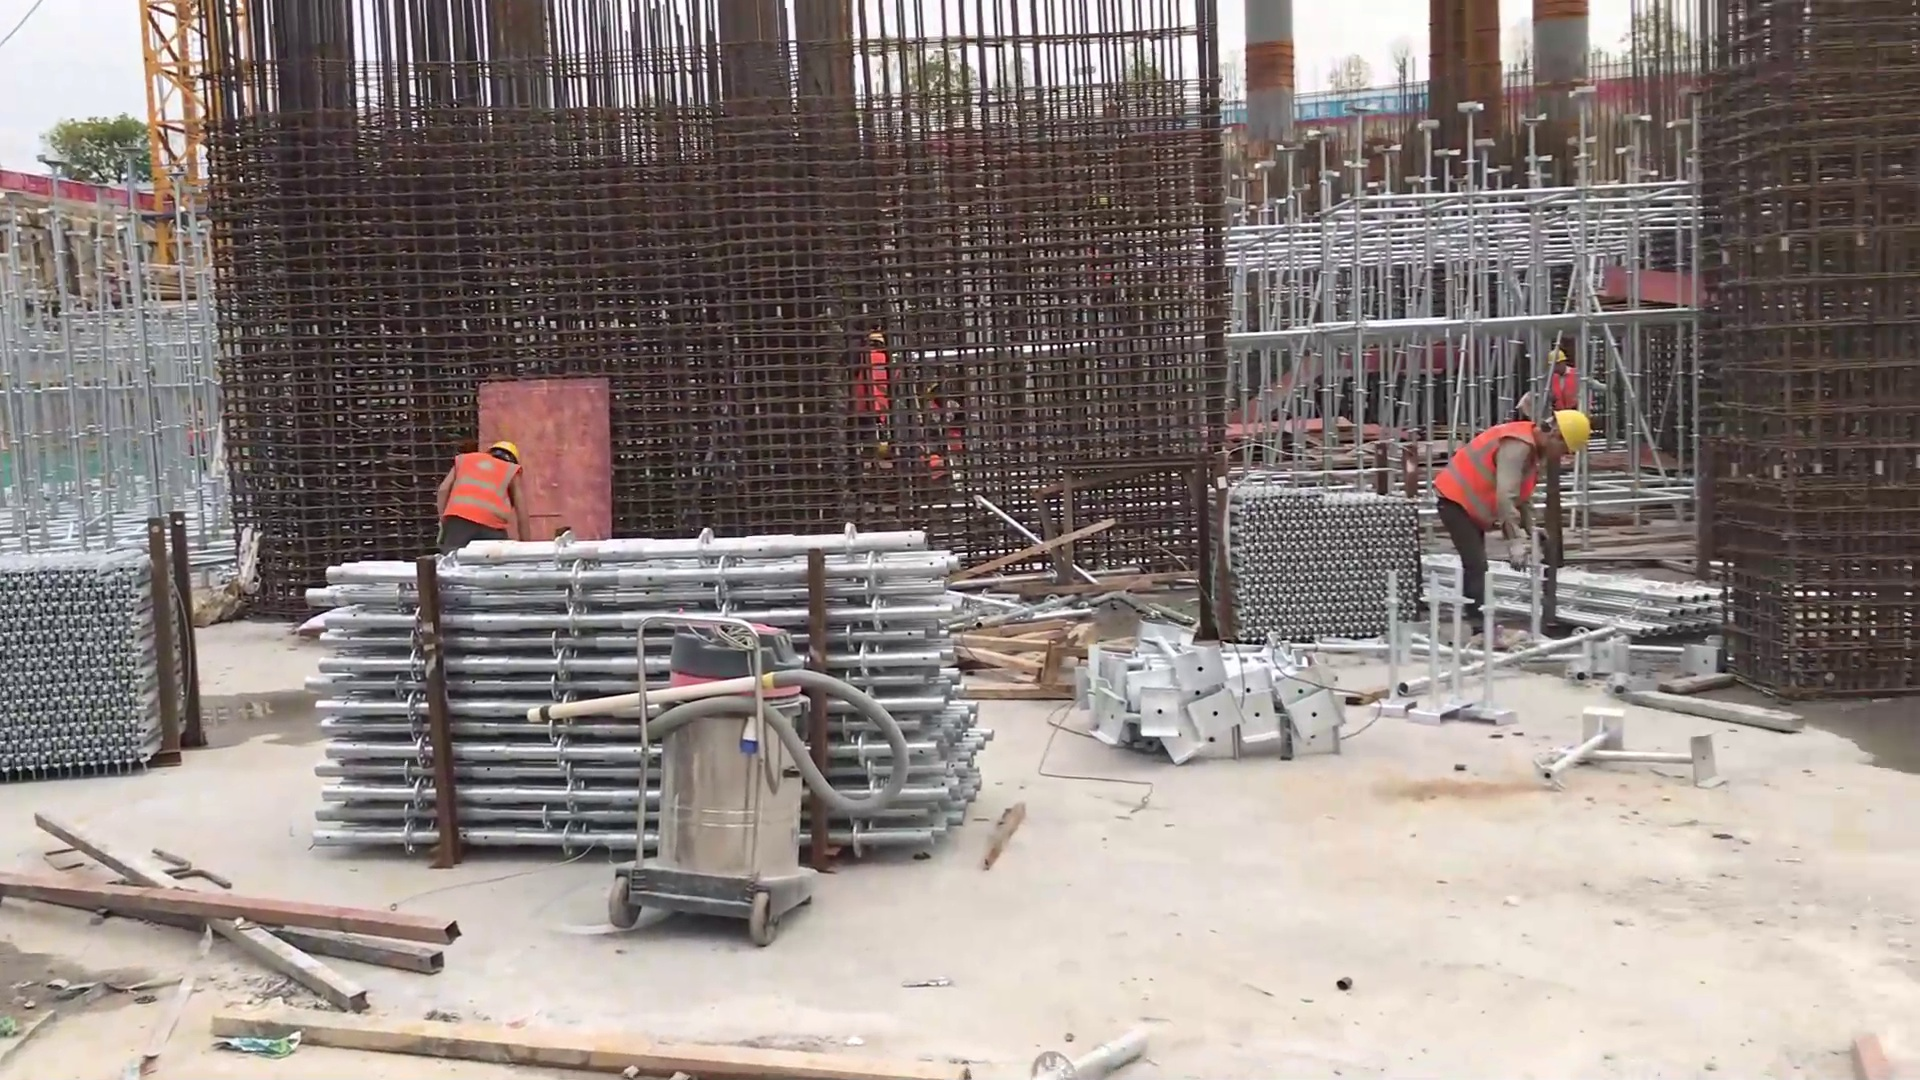helmet: (1552, 407, 1592, 454), (489, 438, 523, 465), (1547, 349, 1569, 366)
person: (1433, 401, 1591, 645), (434, 438, 536, 550), (1540, 345, 1584, 412)
scaffold: (321, 523, 1006, 867), (1, 537, 210, 791), (1217, 474, 1423, 644), (1492, 556, 1741, 650)
vest: (1434, 422, 1540, 535), (448, 452, 526, 526)
